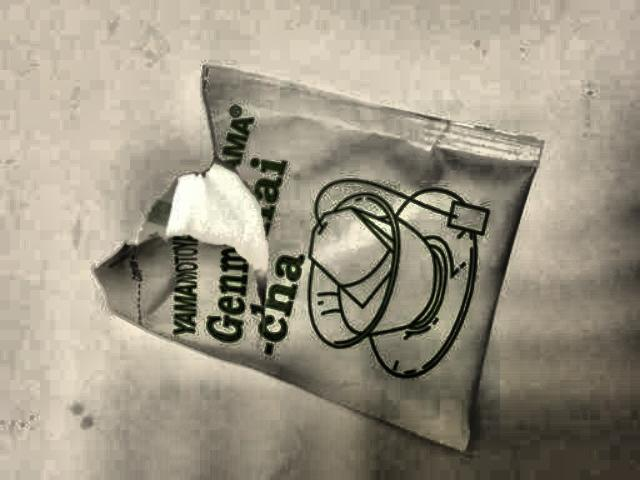Plastic: (4, 13, 640, 479)
